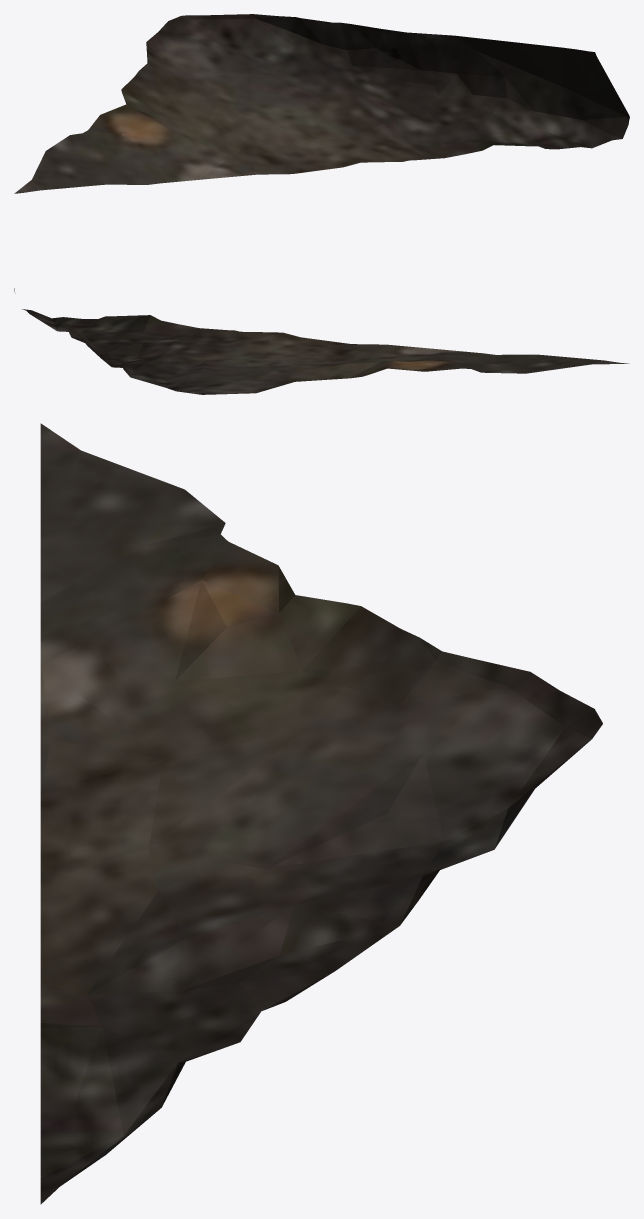
3 views of the same model, one above another, from view 1: azimuth 30°, elevation 25°; view 2: azimuth 150°, elevation 25°; view 3: azimuth 270°, elevation 25° (orthographic). The views are drawn at different scales.
Bounding box in the file's own units: 0.7429 × 0.1101 × 0.2938.
1 material, 1 textured.
